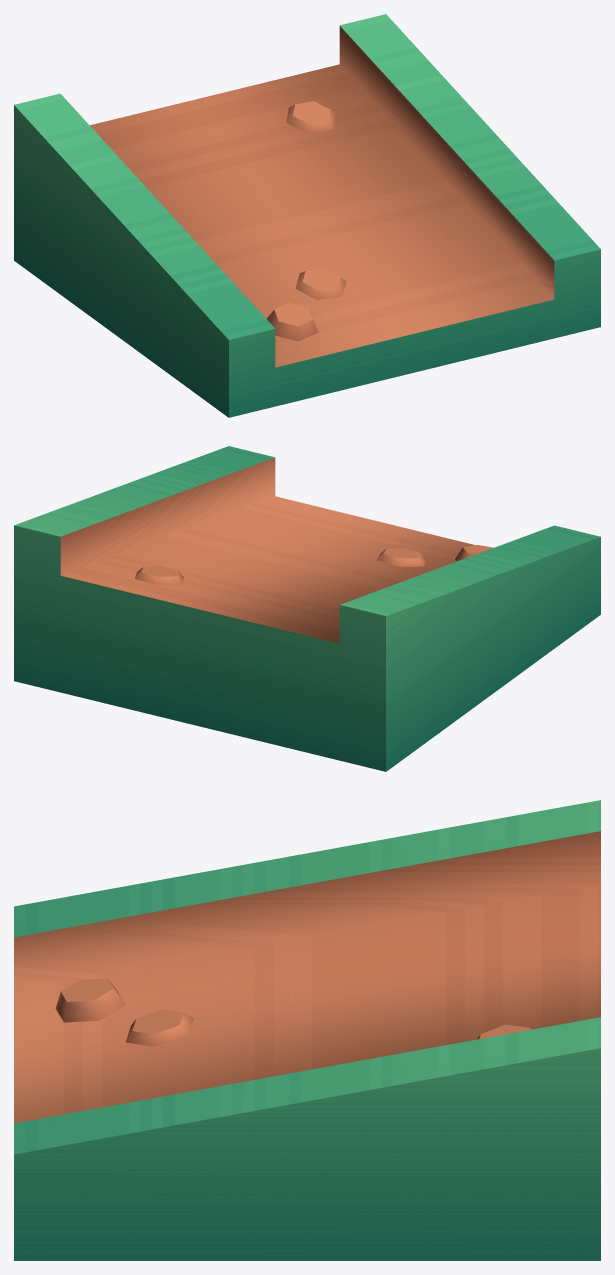
The model's file is tile-straight-slope.glb.
3 renders of one model, top to bottom at view 1: azimuth 30°, elevation 25°; view 2: azimuth 150°, elevation 25°; view 3: azimuth 270°, elevation 25°, orthographic. The views are drawn at different scales.
Visible parts, largest first — view 1: tile-straight-slope; view 2: tile-straight-slope; view 3: tile-straight-slope.
Part boxes in pixels (x1=…): tile-straight-slope: x1=14, y1=14, x2=600, y2=417; tile-straight-slope: x1=14, y1=446, x2=600, y2=771; tile-straight-slope: x1=14, y1=800, x2=600, y2=1260.
Size of the model in its own units: 3 by 1.2 by 3.
Materials: 1 (1 with a texture image).
